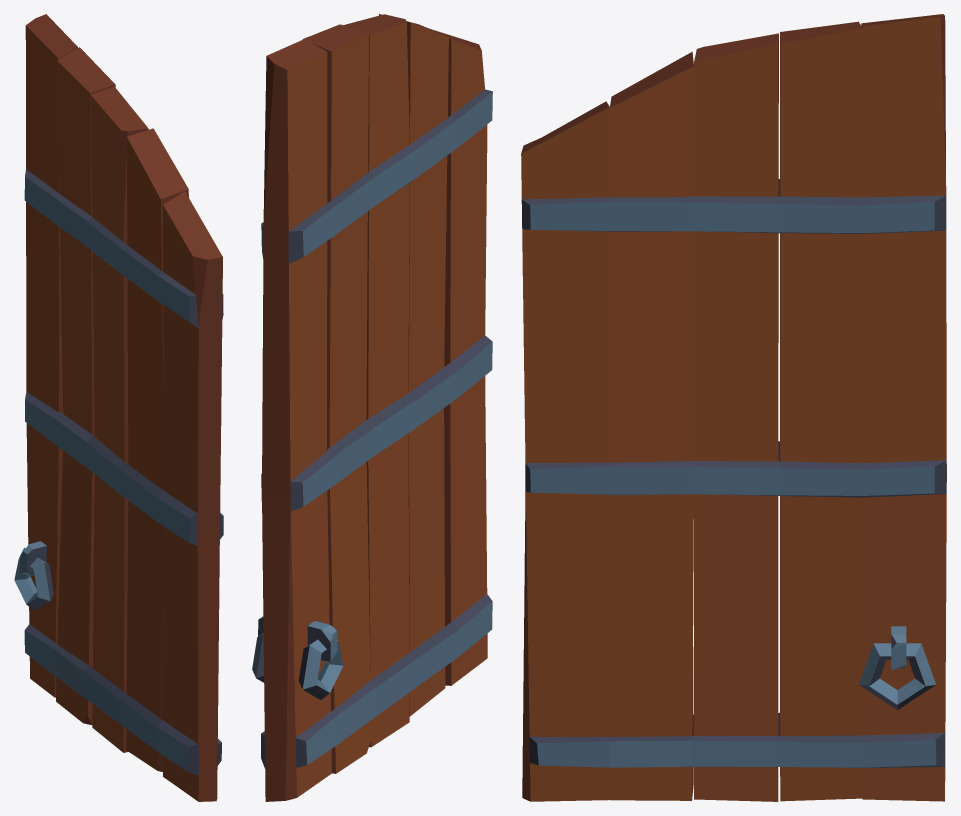
File: Mesh_Door_Large.fbx
The picture shows the model from 3 angles, left to right: view 1: azimuth 30°, elevation 25°; view 2: azimuth 150°, elevation 25°; view 3: azimuth 270°, elevation 25°; orthographic projection. The views are drawn at different scales.
Parts seen in each view (by area): view 1: SM_Door_Large; view 2: SM_Door_Large; view 3: SM_Door_Large.
Part boxes in pixels (x1,y1,x2,y2): SM_Door_Large: [14, 14, 223, 801]; SM_Door_Large: [252, 14, 492, 801]; SM_Door_Large: [521, 14, 946, 801].
Size of the model in its own units: 0.5465 by 5.42 by 2.66.
